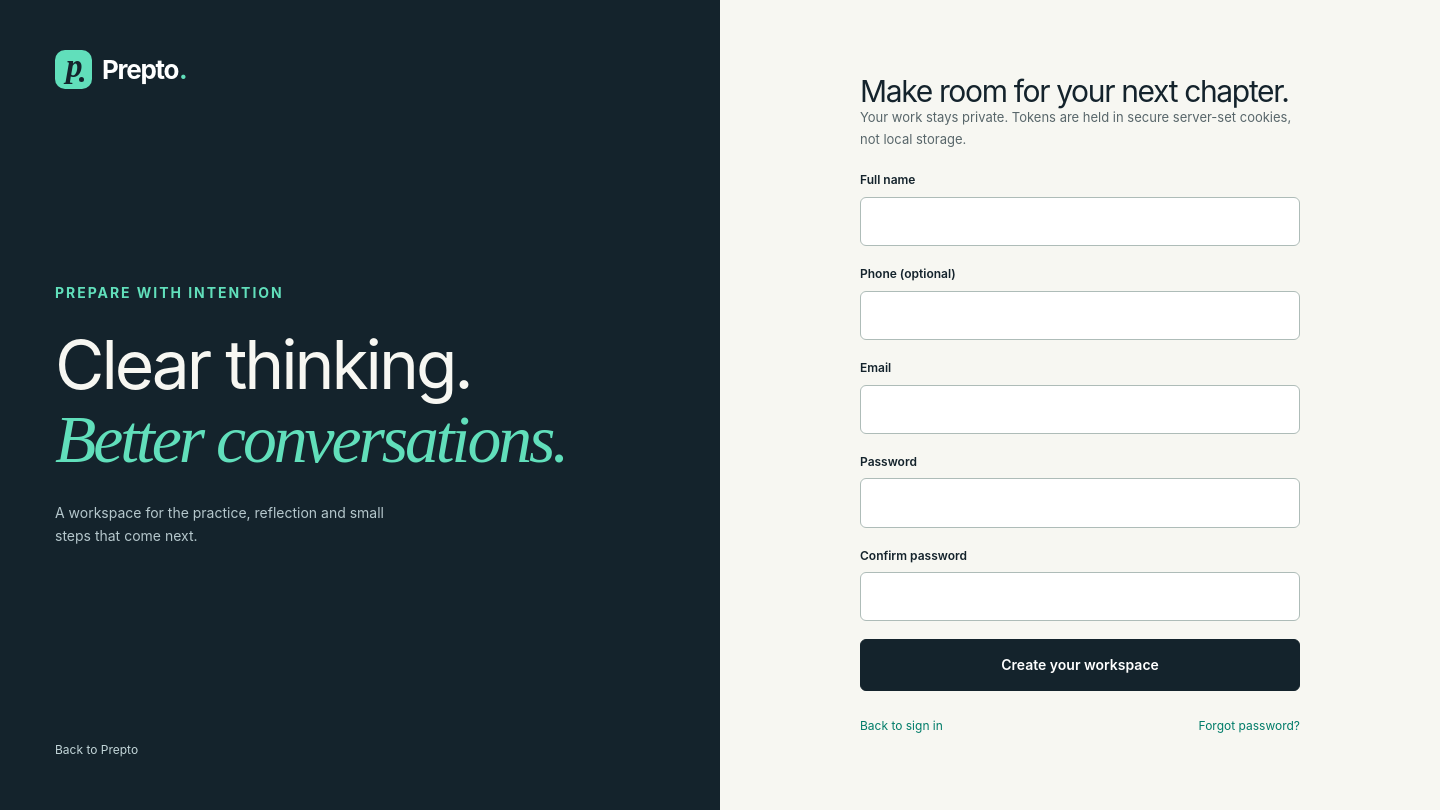
Test: recoverable forms and authentication boundaries › validates registration before loading an authentication provider
The image size is (1440, 810).
Expected: the password field labelled "Confirm password" is shown, [860,572,1300,621]
Step 1. Type "synthetic@example.test" into the field labelled "Email" → (1080, 409), box [860,384,1300,434]
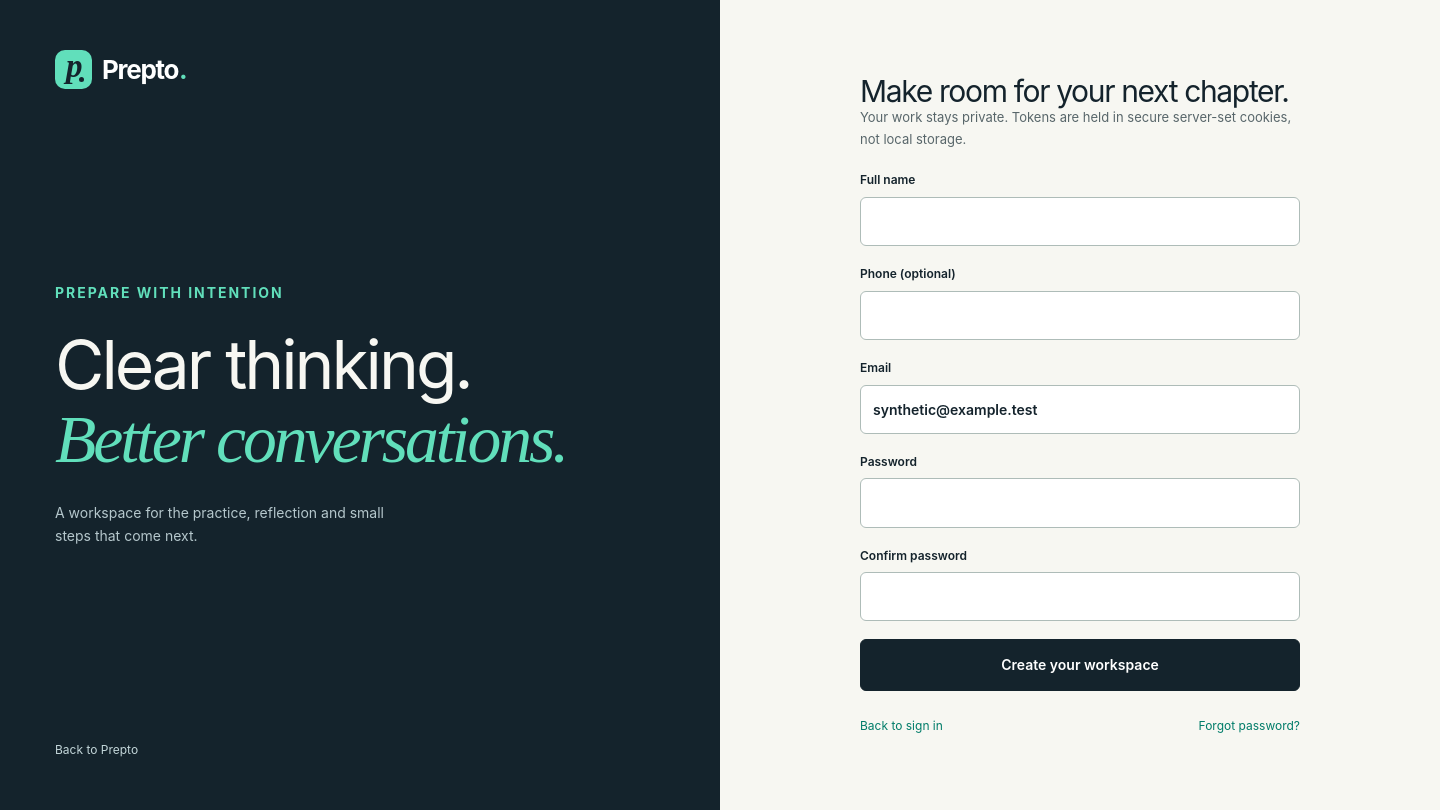
Step 2. Type "Synthetic" into the field labelled "Full name" → (1080, 221), box [860,197,1300,246]
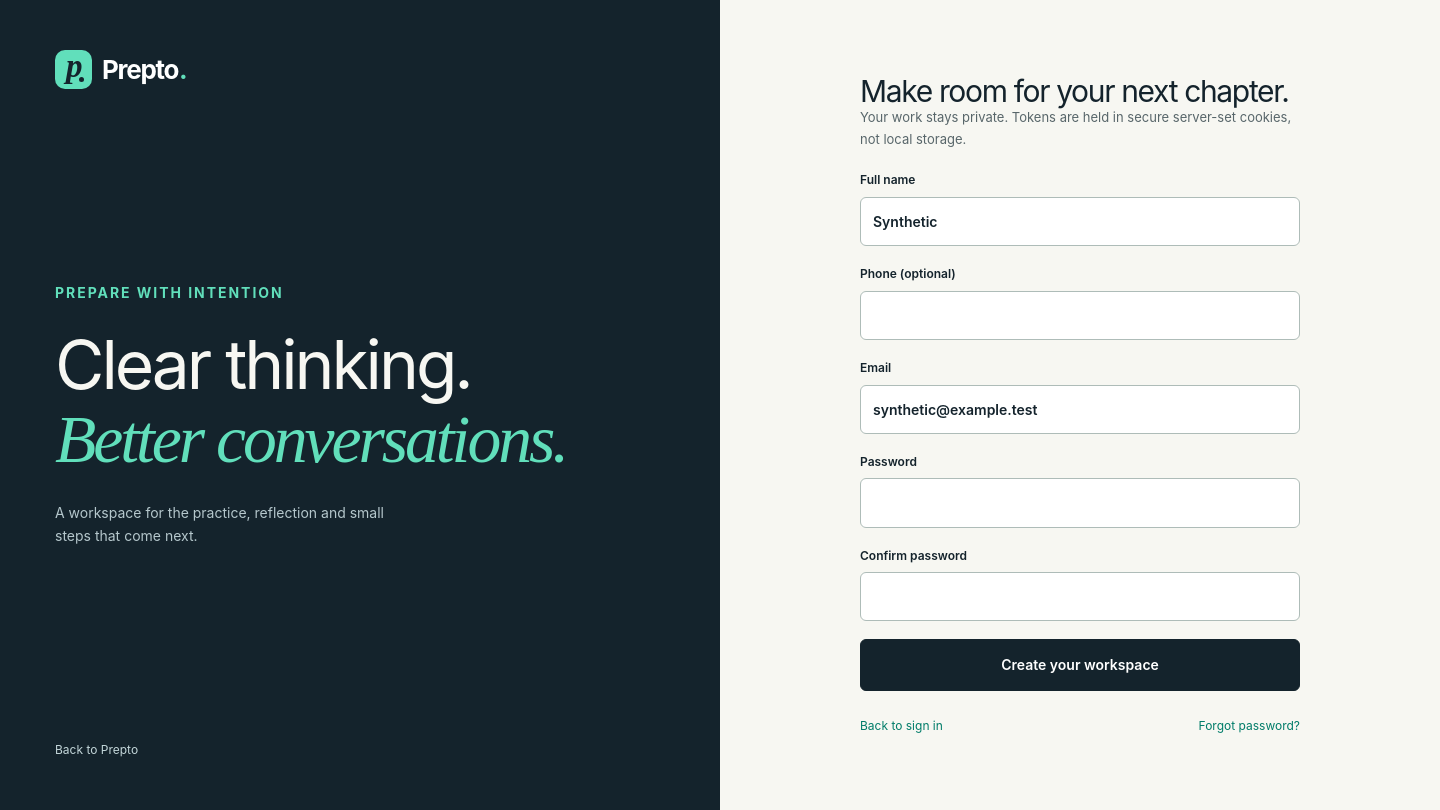
Step 3. Type "password-one" into the password field labelled "Password" → (1080, 503), box [860,478,1300,528]
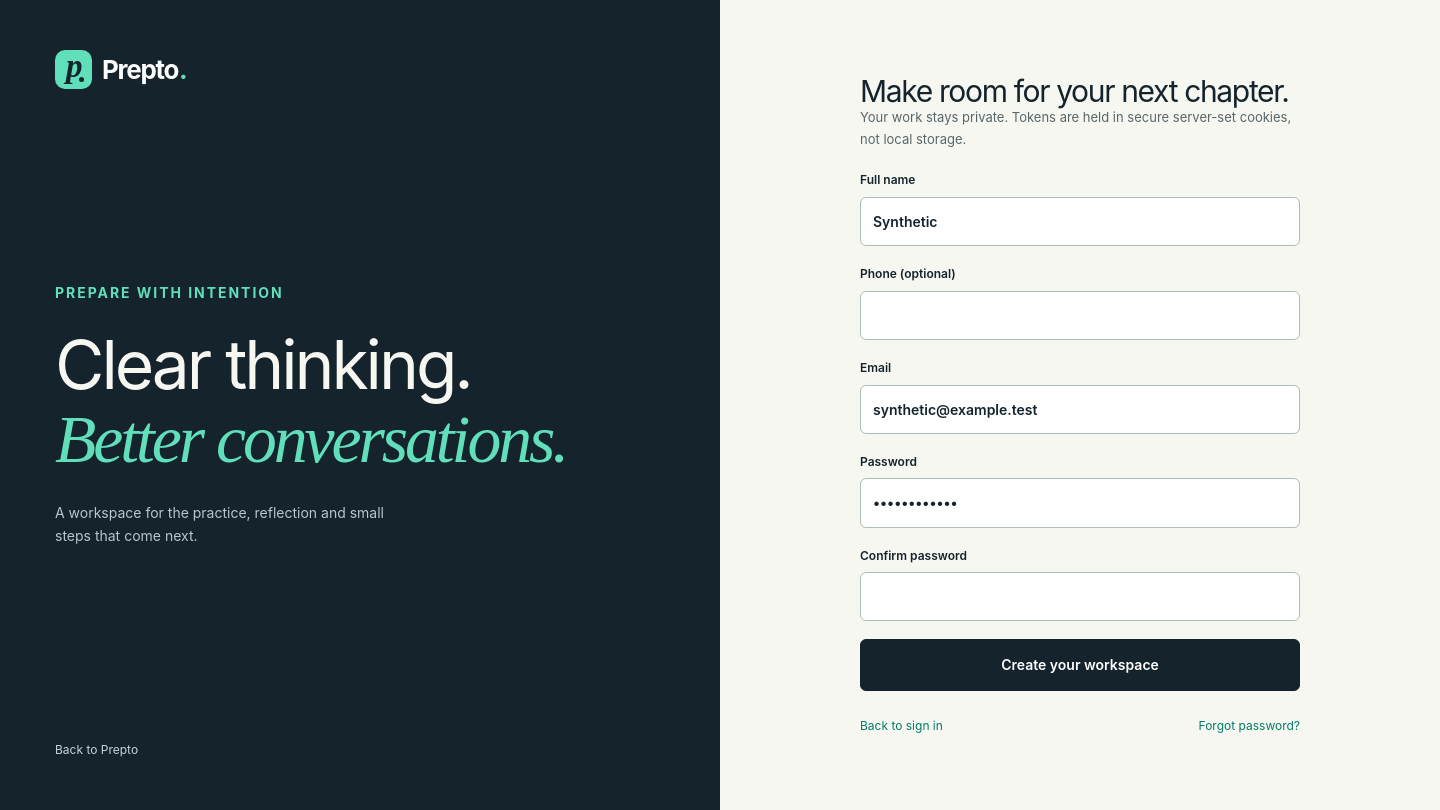
Step 4. Type "password-two" into the password field labelled "Confirm password" → (1080, 597), box [860,572,1300,621]
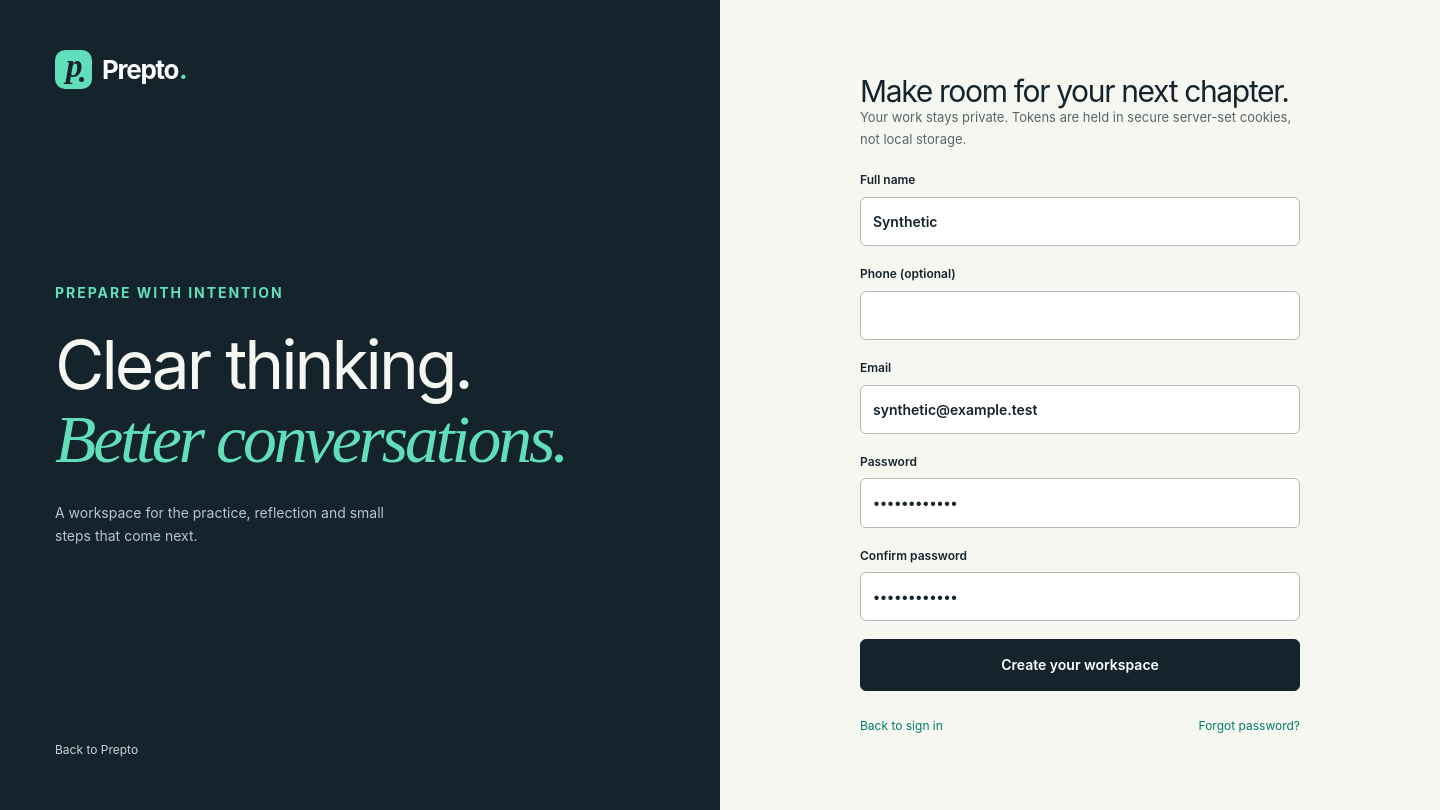
Step 5. Submit the form "Create your workspace", box [860,170,1300,690]
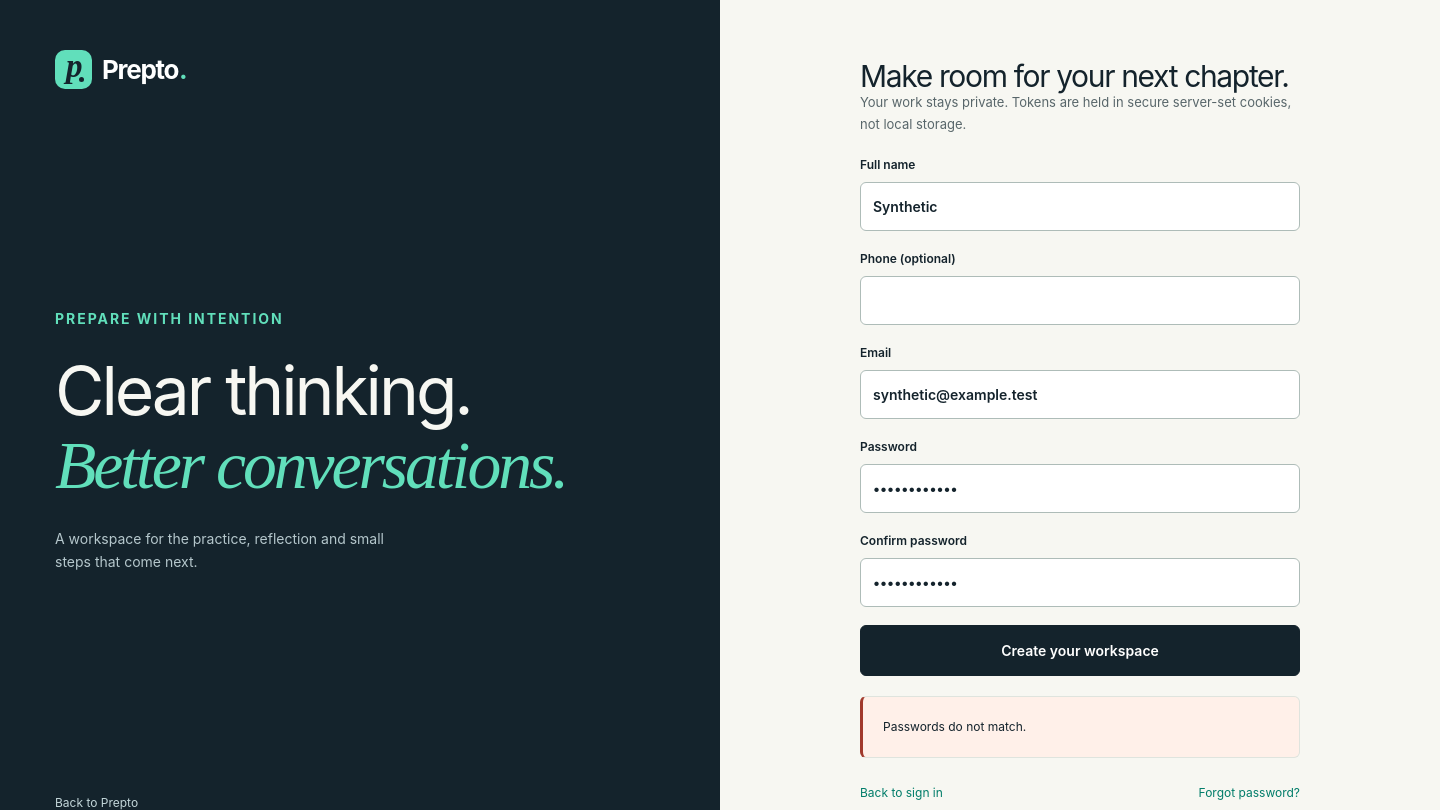
Expected: the text "Passwords do not match." is shown, [860,696,1300,758]
